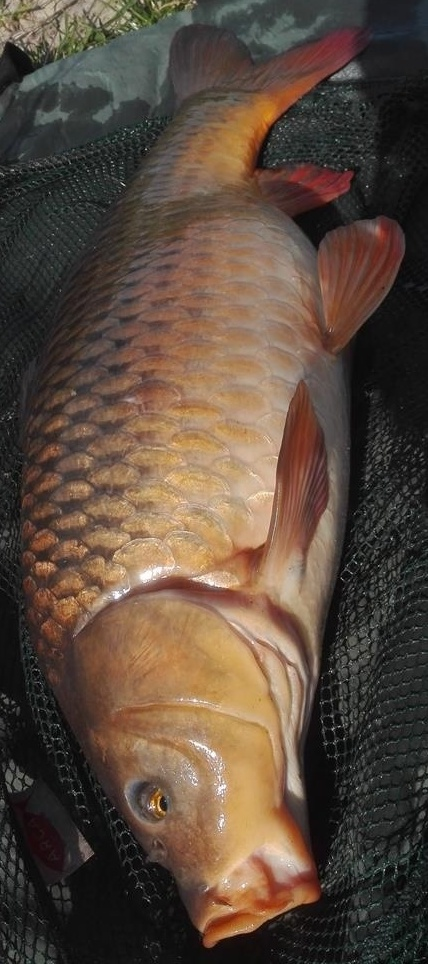Cyprinus carpio: (20, 20, 408, 947)
